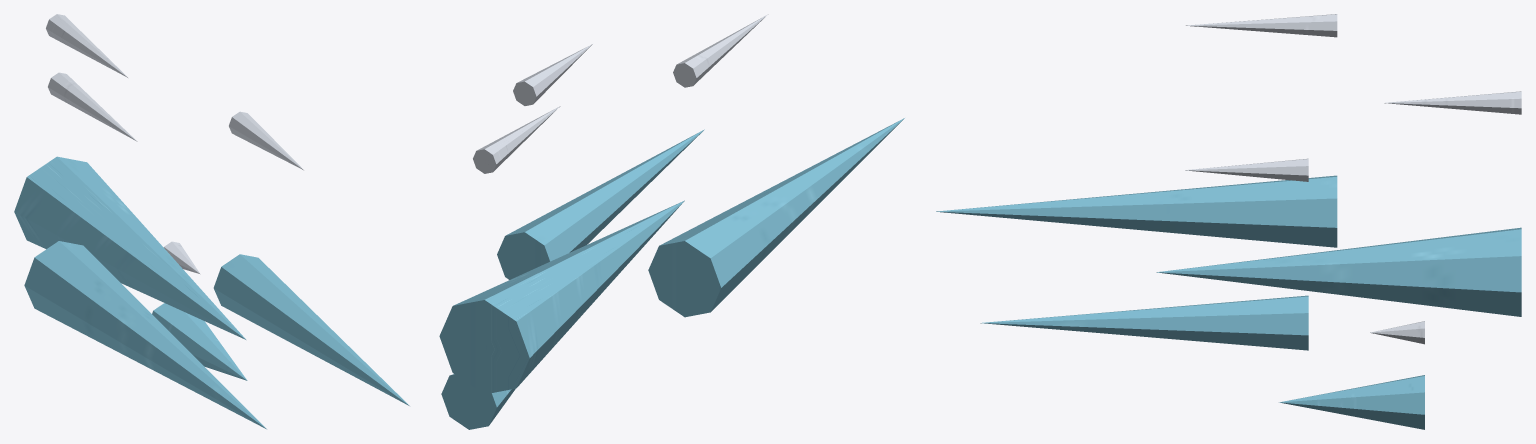
Rendered from ice_spire_cluster_lod1.glb.
The picture shows the model from 3 angles, left to right: view 1: azimuth 30°, elevation 25°; view 2: azimuth 150°, elevation 25°; view 3: azimuth 270°, elevation 25°; orthographic projection. The views are drawn at different scales.
Visible parts, largest first — view 1: ice_4, ice_2, ice_6, ice_0, snow_3, snow_5, snow_7, snow_1; view 2: ice_4, ice_2, ice_6, ice_0, snow_3, snow_5, snow_7; view 3: ice_4, ice_2, ice_6, ice_0, snow_3, snow_5, snow_7, snow_1.
Boxes of the visible parts, x1,y1,x2,y2 form: ice_4: [14, 156, 245, 339]; ice_2: [24, 241, 266, 429]; ice_6: [213, 254, 409, 405]; ice_0: [152, 303, 247, 380]; snow_3: [48, 72, 137, 141]; snow_5: [46, 14, 127, 77]; snow_7: [229, 111, 303, 170]; snow_1: [164, 241, 200, 274]; ice_4: [439, 200, 684, 394]; ice_2: [648, 118, 904, 317]; ice_6: [497, 129, 704, 279]; ice_0: [441, 374, 515, 429]; snow_3: [673, 14, 768, 87]; snow_5: [473, 106, 560, 173]; snow_7: [513, 44, 592, 105]; ice_4: [1156, 227, 1521, 316]; ice_2: [936, 175, 1337, 247]; ice_6: [980, 295, 1308, 350]; ice_0: [1279, 375, 1424, 429]; snow_3: [1186, 14, 1337, 37]; snow_5: [1384, 91, 1521, 114]; snow_7: [1185, 158, 1308, 181]; snow_1: [1370, 321, 1424, 344].
Bounding box in the file's own units: 6.9 × 10.24 × 16.04.
Materials: 2 (2 with a texture image).
